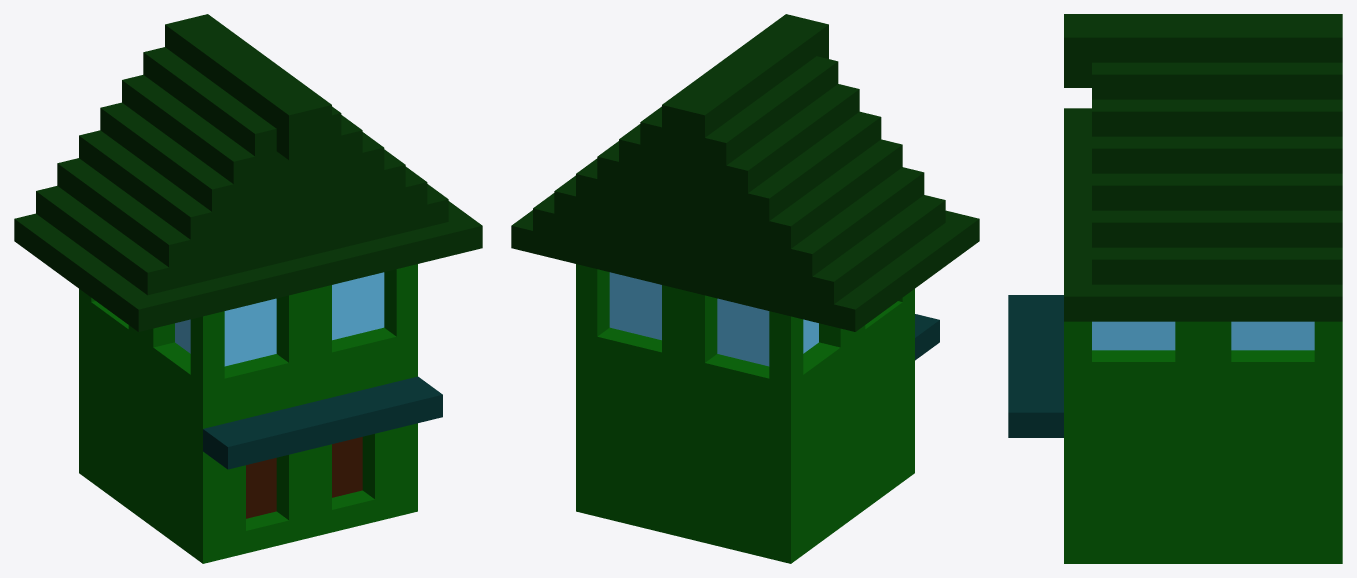
Rendered from House 4.obj.
3 renders of one model, left to right at view 1: azimuth 30°, elevation 25°; view 2: azimuth 150°, elevation 25°; view 3: azimuth 270°, elevation 25°, orthographic. The views are drawn at different scales.
Size of the model in its own units: 1.6 by 1.9 by 1.2.
Materials: 1 (1 with a texture image).
